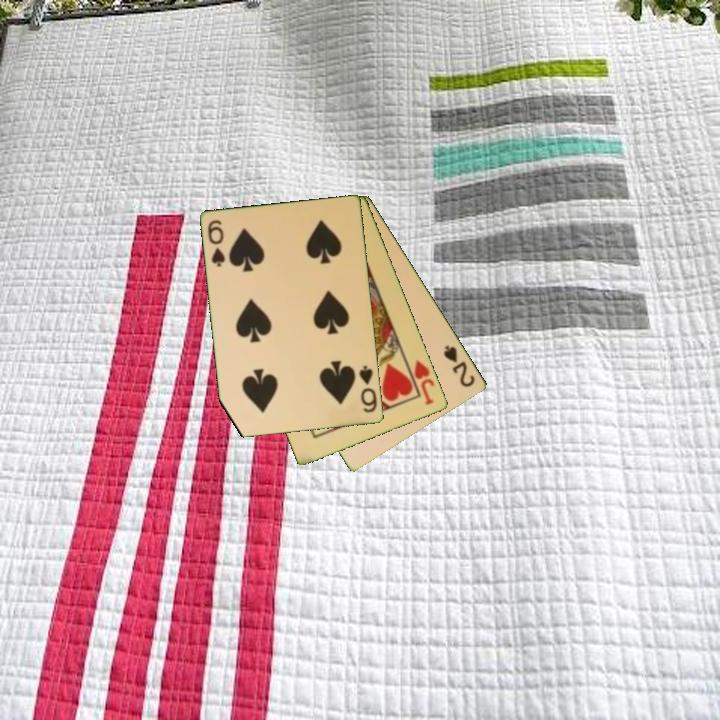2s: (440, 342, 478, 390)
6s: (356, 362, 380, 416), (204, 217, 228, 270)
Jh: (403, 357, 438, 408)
